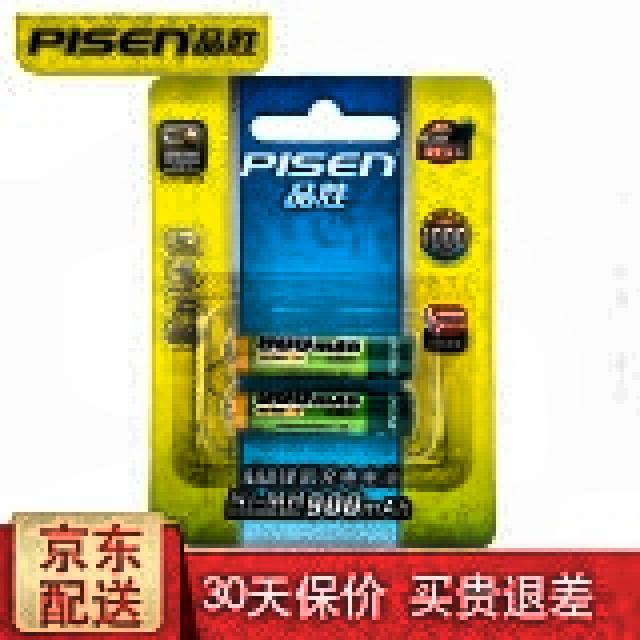Non-Valuable Waste - Batteries: (231, 376, 410, 434), (239, 335, 411, 378)
